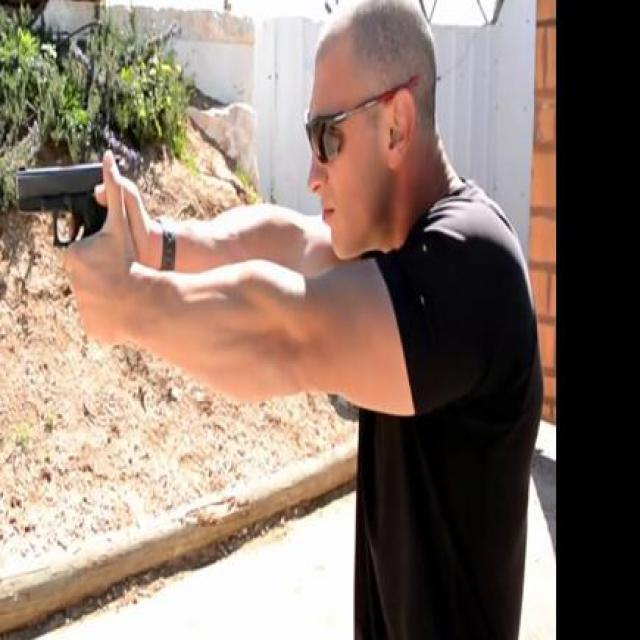gun: (13, 154, 140, 339)
